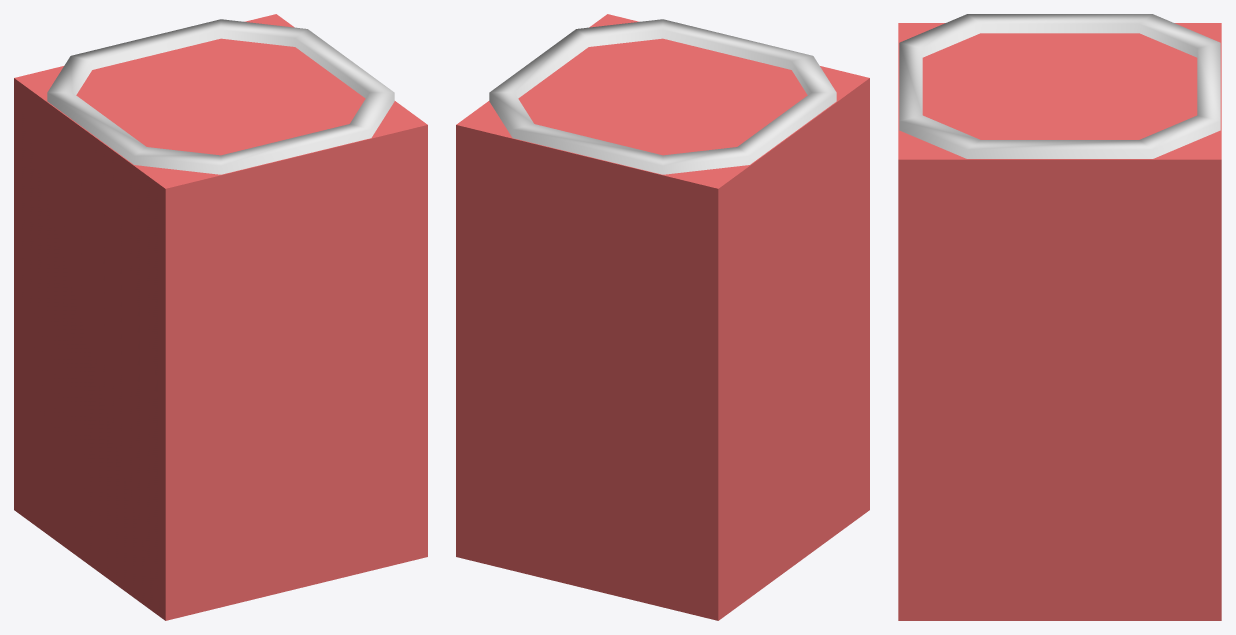
File: prop_garbage_can.glb
The picture shows the model from 3 angles, left to right: view 1: azimuth 30°, elevation 25°; view 2: azimuth 150°, elevation 25°; view 3: azimuth 270°, elevation 25°; orthographic projection. The views are drawn at different scales.
Visible parts, largest first — view 1: brush_box.012, prop_garbage_can; view 2: brush_box.012, prop_garbage_can; view 3: brush_box.012, prop_garbage_can.
Part boxes in pixels (bbox=[...]): brush_box.012: bbox=[14, 14, 427, 620]; prop_garbage_can: bbox=[47, 19, 394, 174]; brush_box.012: bbox=[456, 14, 869, 620]; prop_garbage_can: bbox=[489, 19, 836, 174]; brush_box.012: bbox=[898, 23, 1221, 620]; prop_garbage_can: bbox=[899, 14, 1220, 158].
Size of the model in its own units: 0.4544 by 0.7298 by 0.4544.
